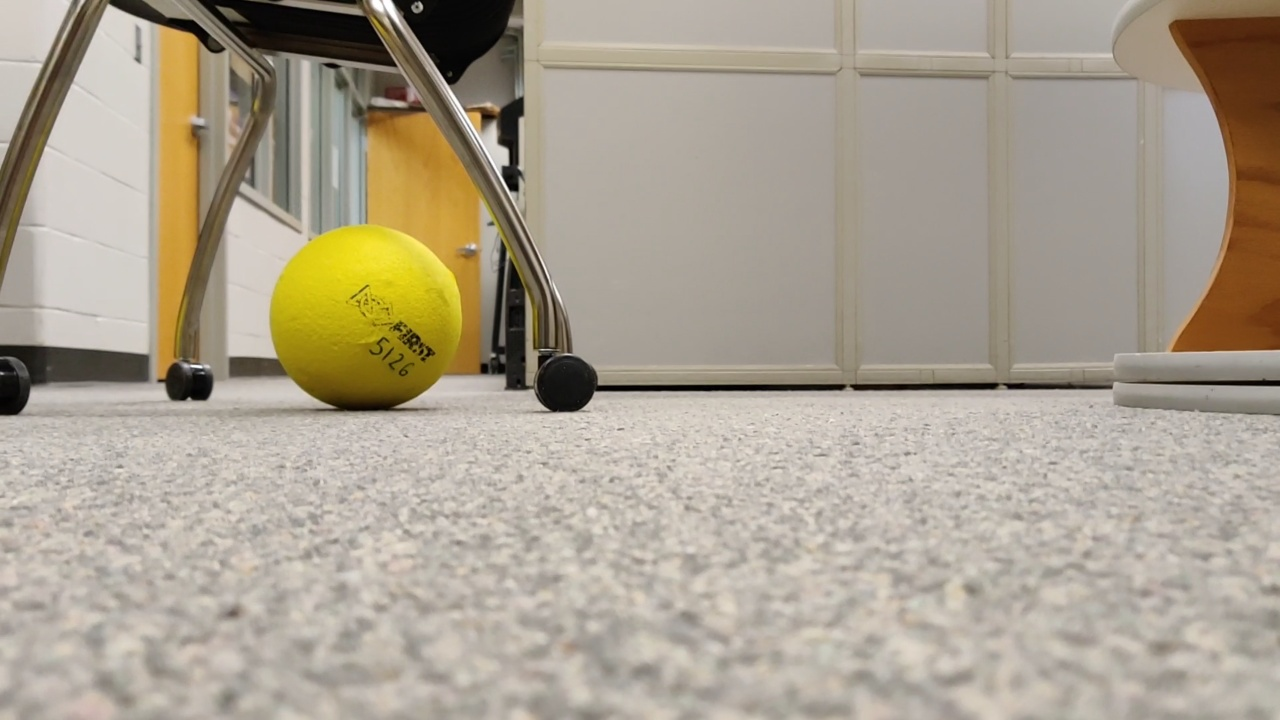Ball: (272, 224, 473, 414)
